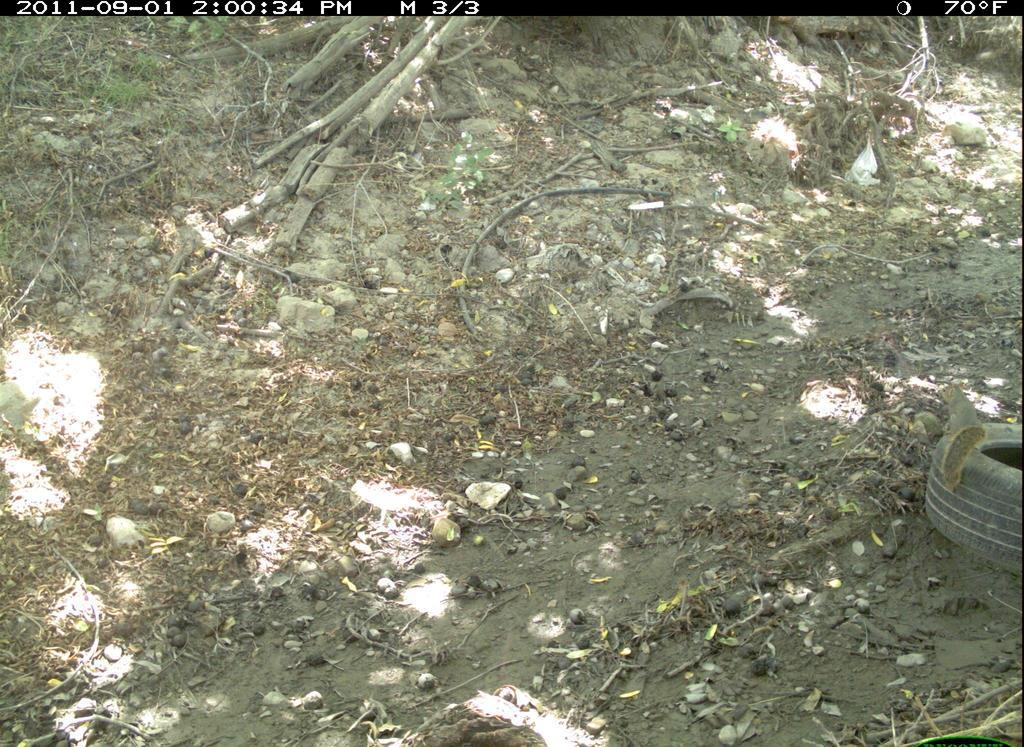squirrel: (930, 374, 1000, 491)
